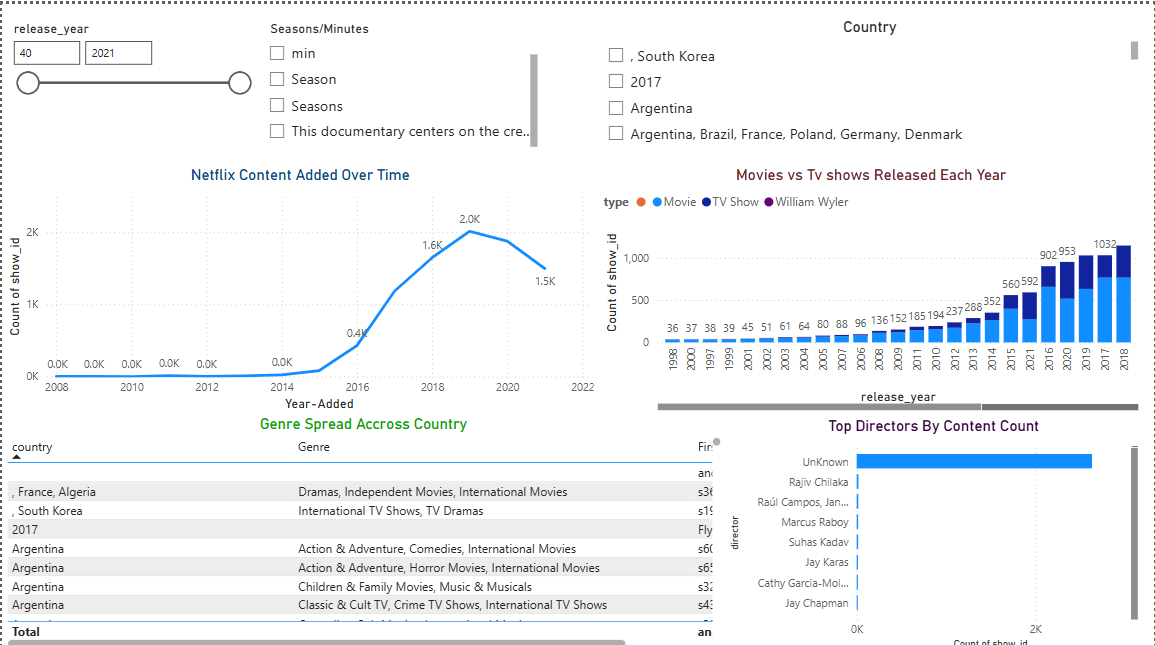

What the dashboard file says about the page in this screenshot:
{"tool":"powerbi","page":{"name":"Page 2","canvas":[1280,720],"ordinal":1},"visuals":[{"type":"lineChart","title":"Netflix Content Added Over Time","fields":{"Category":["netflix_titles.Year-Added"],"Y":["netflix_titles.show_id"]},"box":[0,180.6,662.6,276.6],"z":0},{"type":"columnChart","title":"Movies vs Tv shows Released Each Year","fields":{"Category":["netflix_titles.release_year"],"Y":["netflix_titles.show_id"],"Series":["netflix_titles.type"]},"box":[662.6,180.6,604.6,276.6],"z":1000},{"type":"tableEx","title":"Genre Spread Accross Country","fields":{"Values":["netflix_titles.country","netflix_titles.Genre","netflix_titles.show_id"]},"box":[0,457.2,803.4,263.4],"z":2000},{"type":"barChart","title":"Top Directors By Content Count","fields":{"Category":["netflix_titles.director"],"Y":["netflix_titles.show_id"]},"box":[804.1,457.7,463.8,263.3],"z":3000},{"type":"slicer","fields":{"Values":["netflix_titles.release_year"]},"box":[0,13.3,284.9,167.3],"z":4000},{"type":"slicer","fields":{"Values":["netflix_titles.Seasons/Minutes"]},"box":[284.9,13.3,314.7,150.7],"z":5000},{"type":"slicer","title":"Country","fields":{"Values":["netflix_titles.country"]},"box":[662.3,14.2,605.6,149.9],"z":6000}]}

Visuals, with their boxes in screenshot pixels (x1, y1, x2, y2), scaled from the page's 1280x720 canvas onto the 1155x645 screenshot:
"Netflix Content Added Over Time" lineChart: (0,162,598,410)
"Movies vs Tv shows Released Each Year" columnChart: (598,162,1143,410)
"Genre Spread Accross Country" tableEx: (0,410,725,644)
"Top Directors By Content Count" barChart: (726,410,1144,644)
slicer - netflix_titles.release_year: (0,12,257,162)
slicer - netflix_titles.Seasons/Minutes: (257,12,541,147)
"Country" slicer: (598,13,1144,147)
